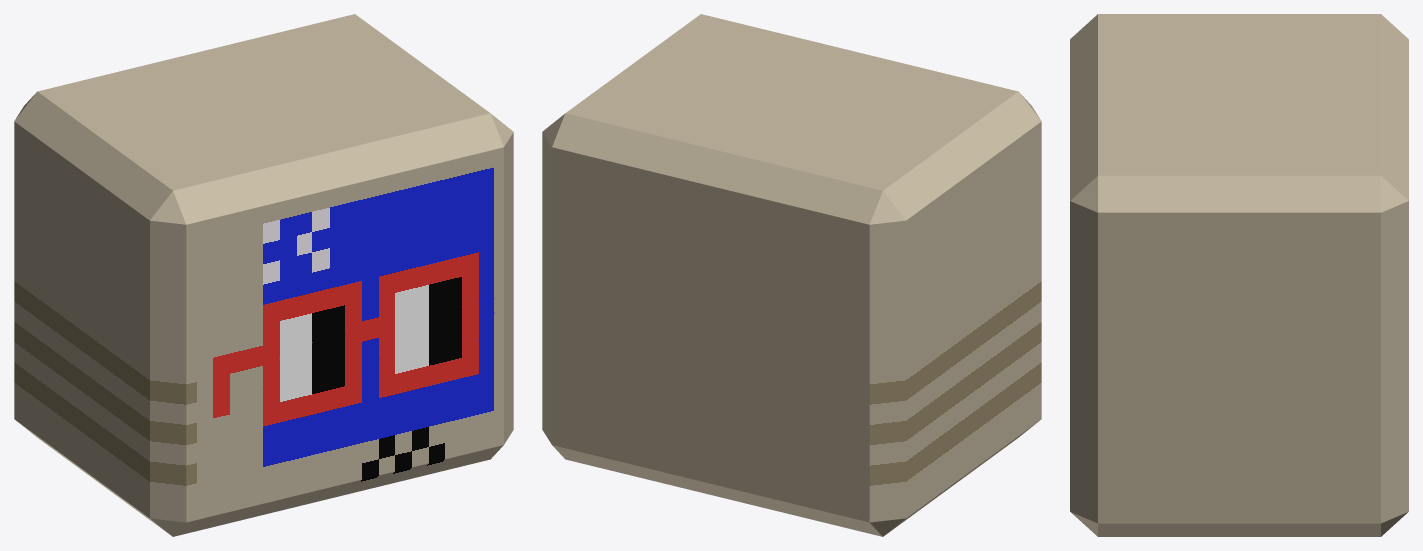
The model's file is noun_head_base.glb.
The picture shows the model from 3 angles, left to right: view 1: azimuth 30°, elevation 25°; view 2: azimuth 150°, elevation 25°; view 3: azimuth 270°, elevation 25°; orthographic projection. The views are drawn at different scales.
Parts seen in each view (by area): view 1: NounHead; view 2: NounHead; view 3: NounHead.
Part boxes in pixels (left/top/right/bottom): NounHead: left=14, top=14, right=513, bottom=536; NounHead: left=542, top=14, right=1041, bottom=536; NounHead: left=1070, top=14, right=1408, bottom=536.
Bounding box in the file's own units: 1.1 × 1 × 0.85.
1 material, 1 textured.
